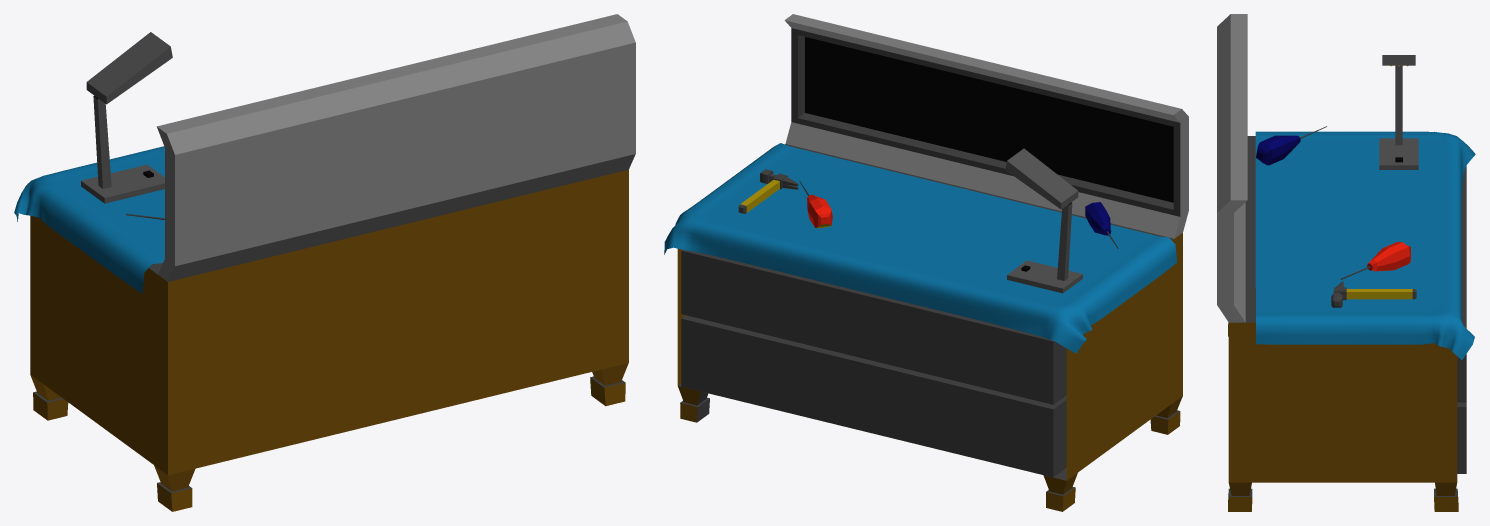
The model's file is RepairCounter.fbx.
3 views of the same model, side by side, from view 1: azimuth 30°, elevation 25°; view 2: azimuth 150°, elevation 25°; view 3: azimuth 270°, elevation 25° (orthographic). The views are drawn at different scales.
Visible parts, largest first — view 1: BaseCounter.001, Base_Texture_BlueTie.001, Lamp; view 2: BaseCounter.001, Base_Texture_BlueTie.001, Lamp, Tools; view 3: BaseCounter.001, Base_Texture_BlueTie.001, Tools, Lamp.
Part boxes in pixels (x1,y1,x2,y2): BaseCounter.001: (30, 14, 635, 511); Base_Texture_BlueTie.001: (14, 146, 164, 293); Lamp: (81, 32, 172, 203); BaseCounter.001: (677, 14, 1188, 511); Base_Texture_BlueTie.001: (664, 143, 1176, 353); Lamp: (1005, 148, 1082, 293); Tools: (738, 169, 1118, 248); BaseCounter.001: (1217, 14, 1466, 511); Base_Texture_BlueTie.001: (1255, 131, 1475, 359); Tools: (1256, 126, 1416, 307); Lamp: (1379, 55, 1418, 169).
Bounding box in the file's own units: 209 × 113 × 151.
